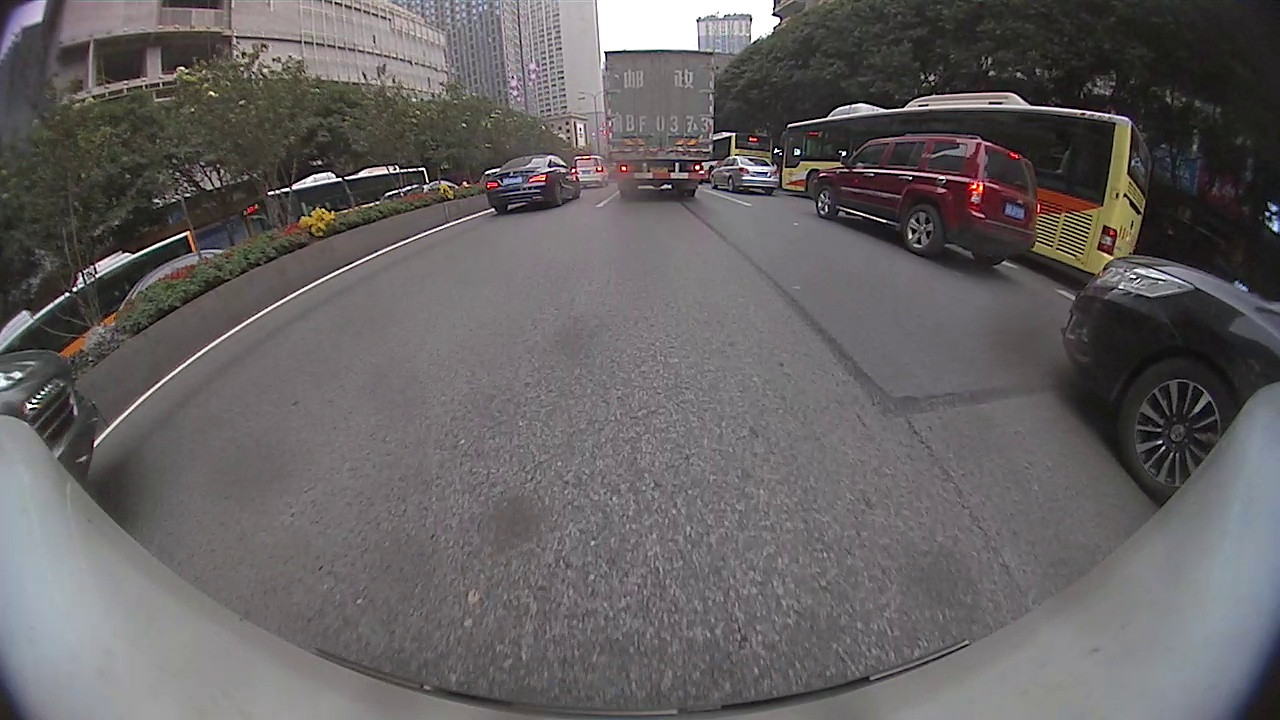bus: (786, 93, 1148, 279)
car: (1060, 251, 1279, 494), (810, 130, 1041, 266), (0, 351, 95, 488), (488, 155, 578, 214), (710, 156, 783, 198)
front: (1115, 351, 1239, 496), (815, 184, 839, 221)
rear: (901, 202, 944, 258), (727, 176, 735, 193)
truck: (604, 52, 714, 198)
